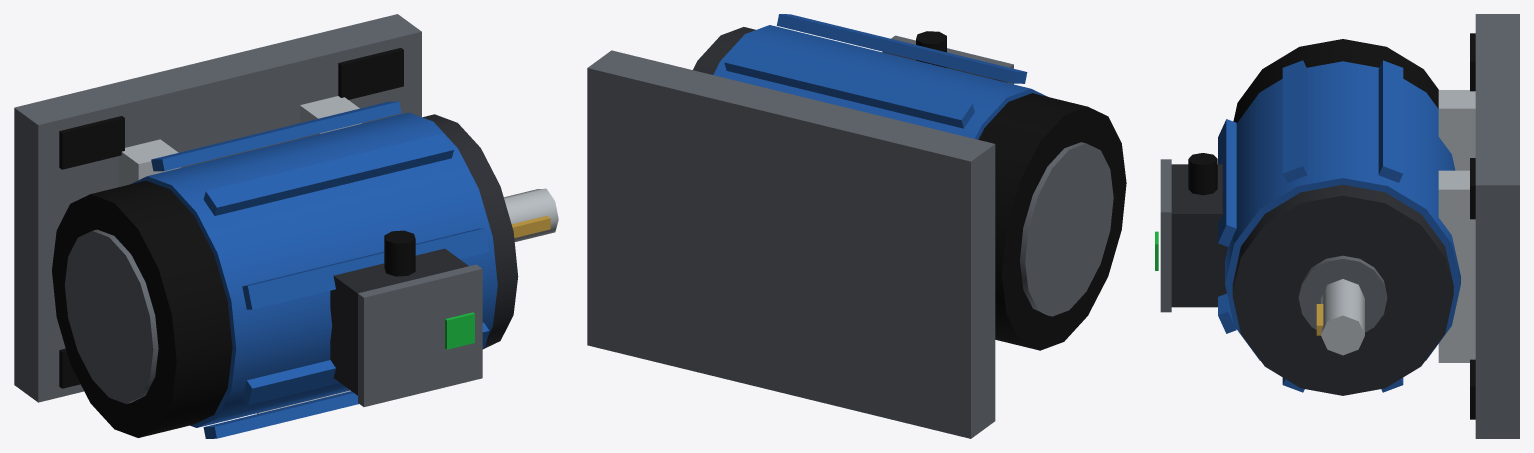
The model's file is item_m4.obj.
The picture shows the model from 3 angles, left to right: view 1: azimuth 30°, elevation 25°; view 2: azimuth 150°, elevation 25°; view 3: azimuth 270°, elevation 25°; orthographic projection. The views are drawn at different scales.
Visible parts, largest first — view 1: item_m4; view 2: item_m4; view 3: item_m4.
Boxes of the visible parts, x1=… form: item_m4: x1=14, y1=14, x2=558, y2=438; item_m4: x1=587, y1=14, x2=1126, y2=438; item_m4: x1=1155, y1=14, x2=1519, y2=438.
Size of the model in its own units: 0.1255 by 0.076 by 0.099.
Materials: 1 (1 with a texture image).
